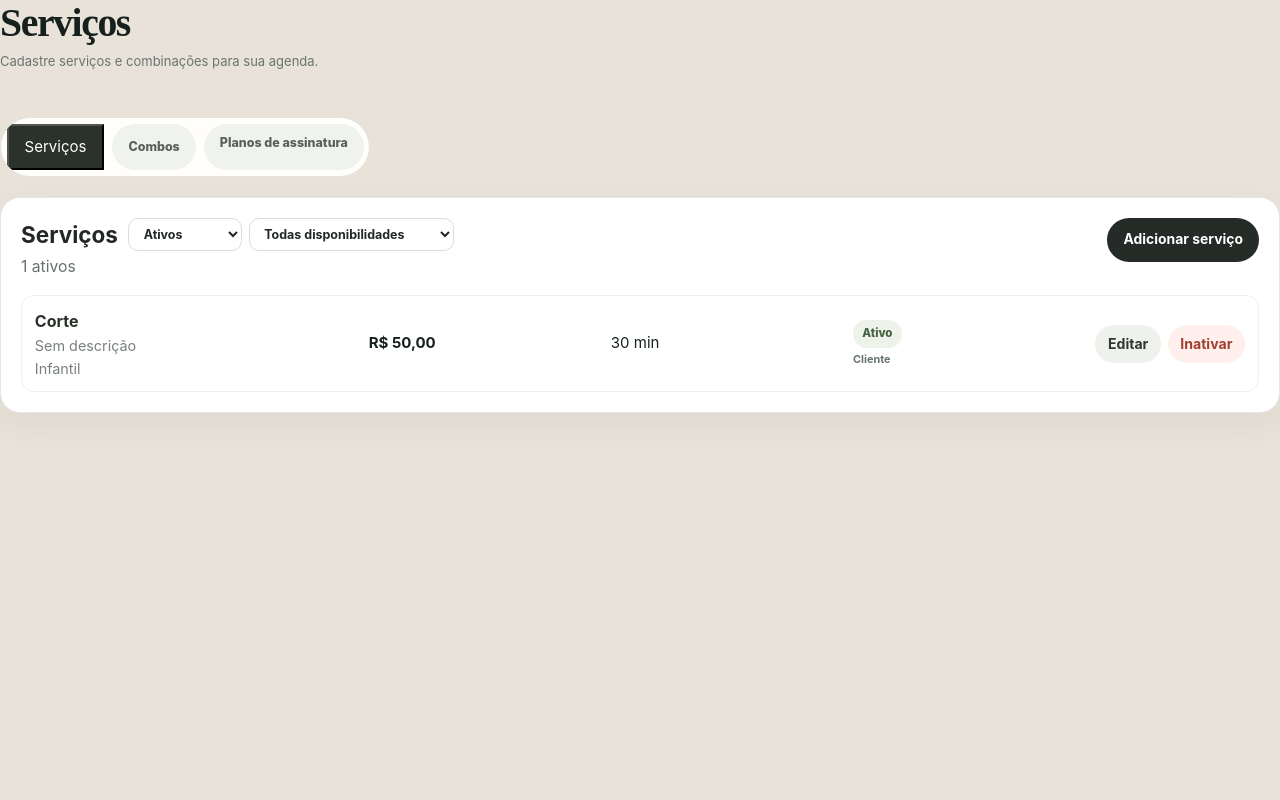
Test: catálogo do gestor › abre cadastro de serviço em modal
Click the button "Adicionar serviço". click: coordinates (1183, 240)
box: [1108,218,1259,262]
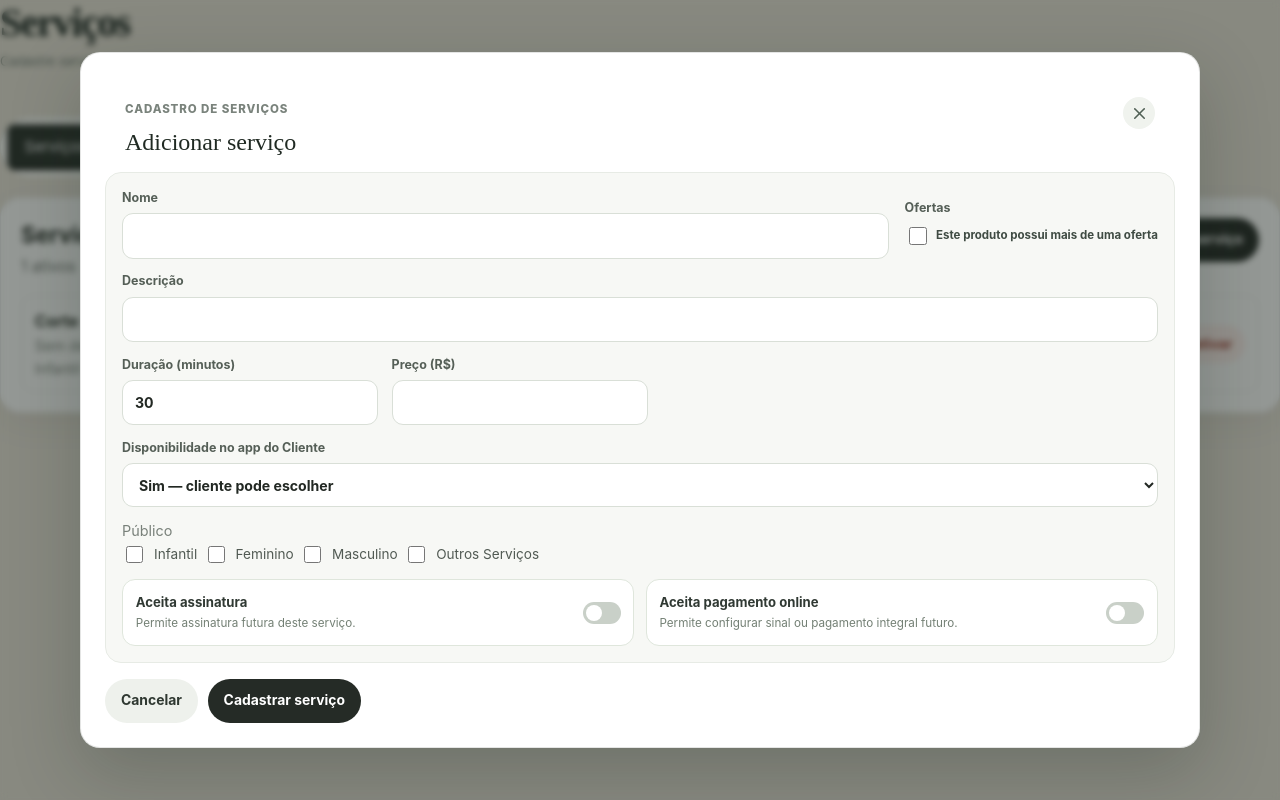
Check: the checkbox labelled "Aceita assinatura Permite assinatura futura deste serviço." is shown, box [583,602,621,624]
Check: the checkbox labelled "Aceita pagamento online" is shown, box [1106,602,1144,624]
Check: the dropdown labelled "Disponibilidade no app do Cliente" shows "Sim — cliente pode escolher", box [122,463,1158,507]
